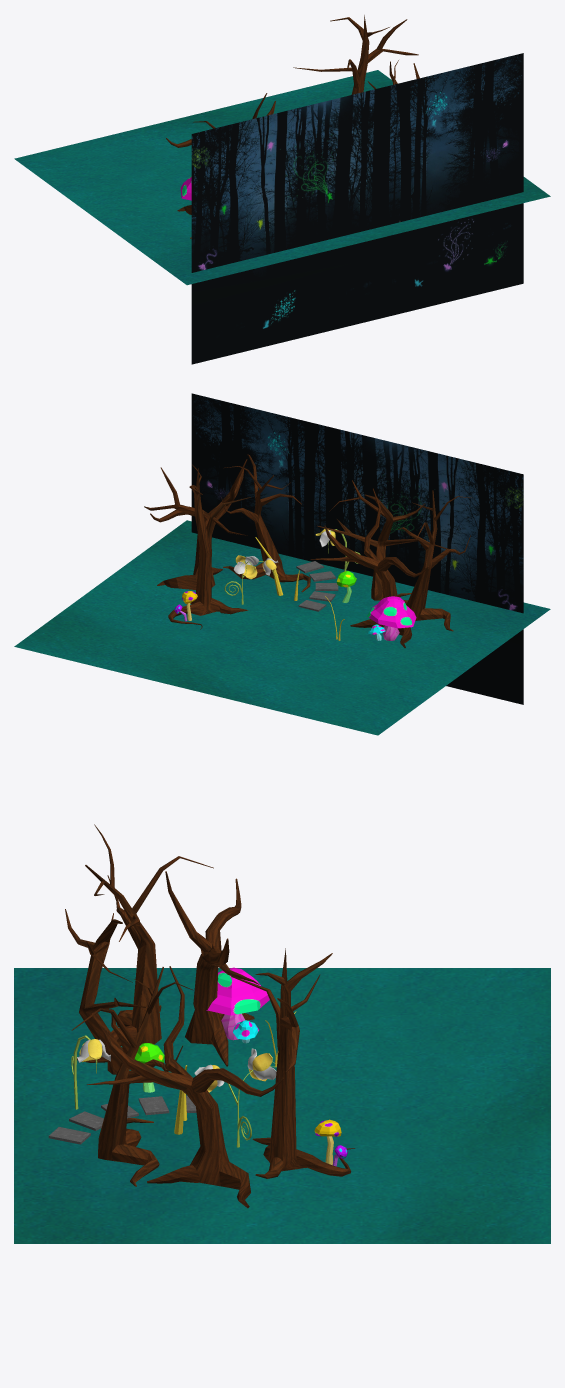
3 views of the same model, one above another, from view 1: azimuth 30°, elevation 25°; view 2: azimuth 150°, elevation 25°; view 3: azimuth 270°, elevation 25° (orthographic). The views are drawn at different scales.
Visible parts, largest first — view 1: pPlane3, pPlane1, tree2; view 2: pPlane1, pPlane3, tree2, tree4, tree6, tree3, pCylinder12, tree5, mushroom2, polySurface12; view 3: pPlane1, tree5, tree2, tree3, tree4, tree6, pCylinder12, mushroom2.
Part boxes in pixels (x1,y1,x2,y2): pPlane3: (191, 53, 523, 364); pPlane1: (14, 70, 550, 285); tree2: (293, 15, 418, 94); pPlane1: (14, 520, 550, 735); pPlane3: (191, 393, 523, 704); tree2: (144, 464, 250, 629); tree4: (310, 488, 428, 647); tree6: (397, 490, 473, 631); tree3: (221, 454, 310, 592); pCylinder12: (317, 480, 447, 600); tree5: (150, 459, 247, 589); mushroom2: (367, 596, 416, 640); polySurface12: (233, 555, 258, 579); pPlane1: (14, 968, 550, 1243); tree5: (87, 966, 283, 1208); tree2: (231, 948, 355, 1178); tree3: (71, 967, 193, 1186); tree4: (165, 871, 259, 1066); tree6: (77, 824, 213, 1062); pCylinder12: (65, 909, 147, 1074); mushroom2: (206, 967, 269, 1040).
Size of the model in its own units: 78.66 by 48.27 by 64.69.
Materials: 21 (21 with a texture image).
